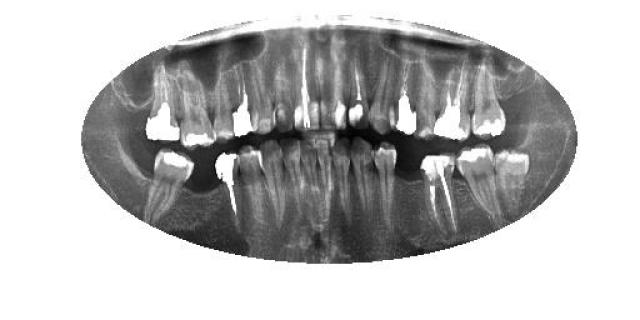Fillings: (144, 148, 195, 224), (455, 144, 503, 218), (471, 58, 509, 138), (142, 66, 180, 142), (180, 71, 216, 151)
Implant: (432, 58, 472, 140), (422, 152, 458, 238), (390, 53, 420, 135), (212, 152, 240, 226), (294, 46, 318, 132), (232, 60, 252, 139), (349, 60, 371, 131)
